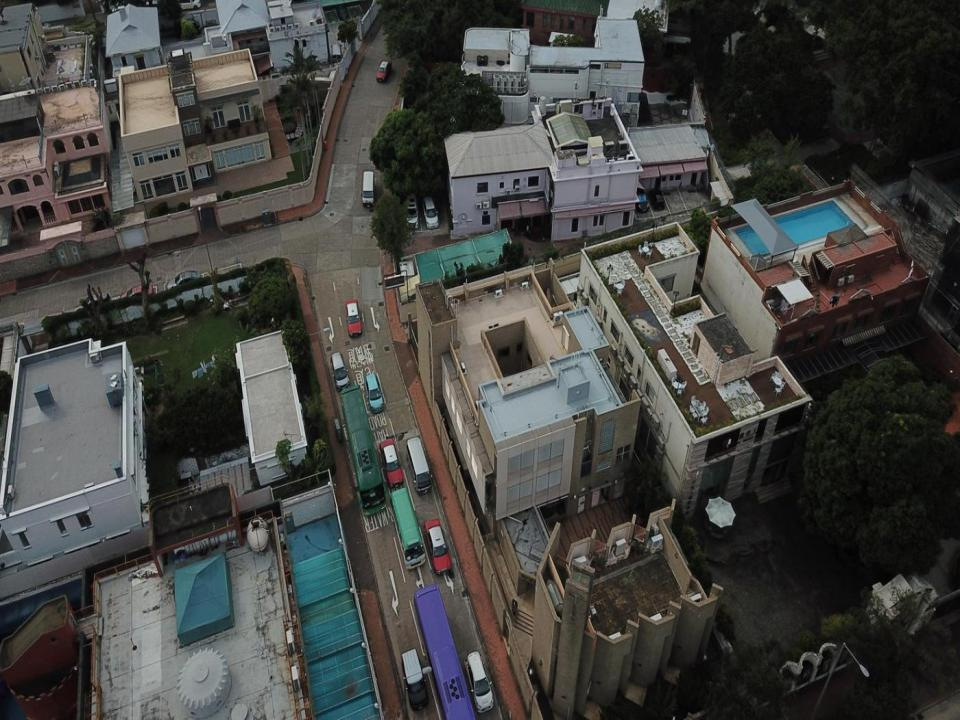bus: (409, 585, 478, 719), (340, 384, 386, 516), (390, 486, 424, 569)
car: (424, 518, 452, 574), (381, 439, 403, 487), (166, 270, 202, 296), (345, 300, 361, 337), (120, 286, 152, 304), (635, 185, 649, 214), (650, 186, 664, 210), (377, 60, 390, 82)
van: (466, 648, 493, 714), (401, 649, 429, 711), (406, 436, 432, 493), (365, 370, 384, 412), (421, 189, 440, 229), (330, 350, 348, 389), (404, 188, 420, 231), (362, 169, 374, 207)
